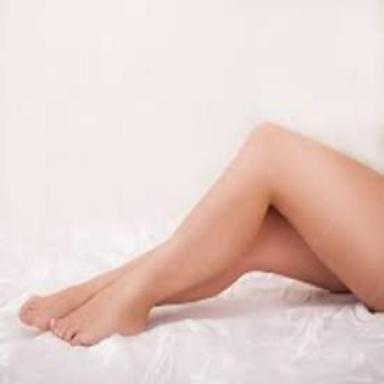normal skin: (19, 125, 384, 345)
